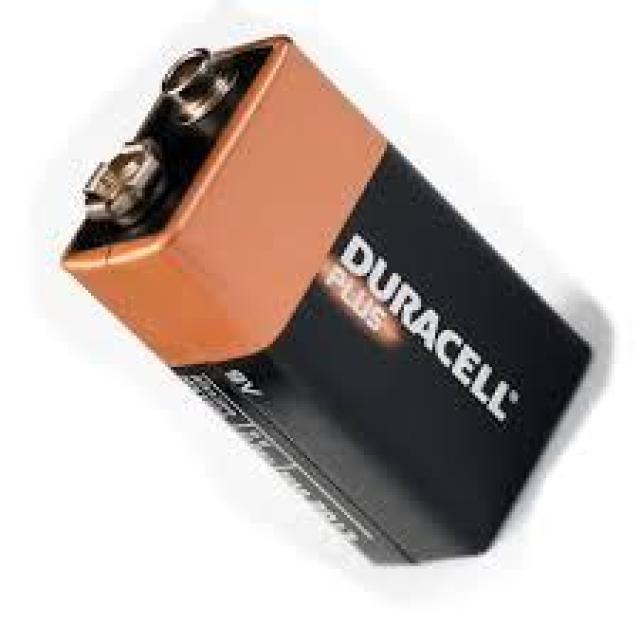9V: (57, 27, 606, 585)
